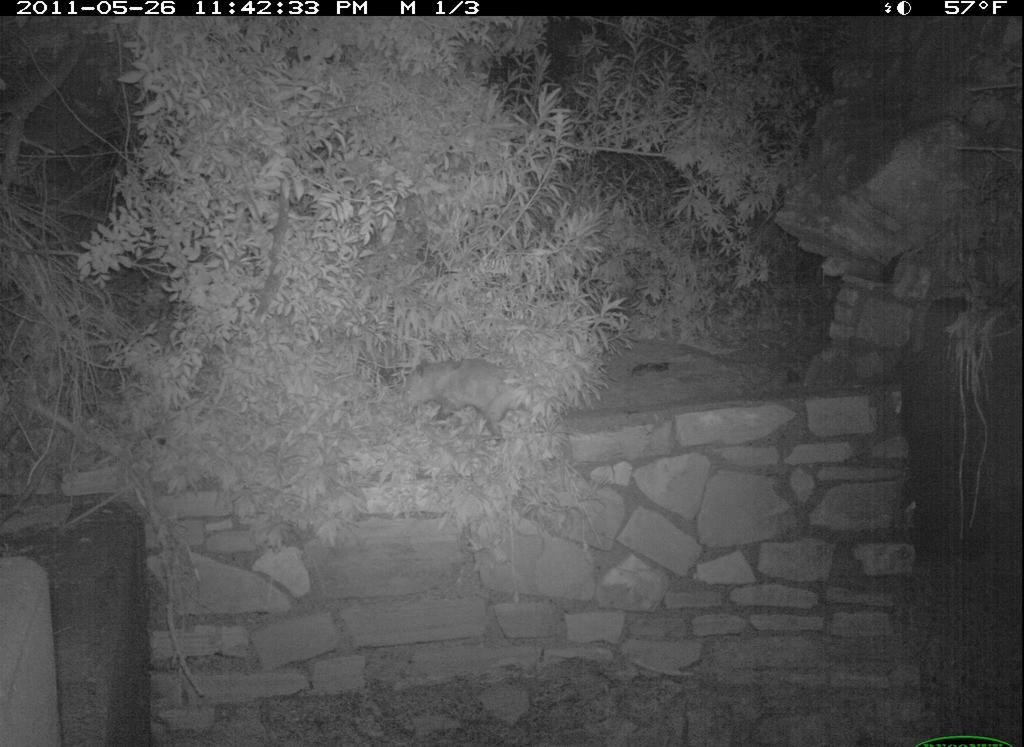opossum: (390, 350, 573, 456)
